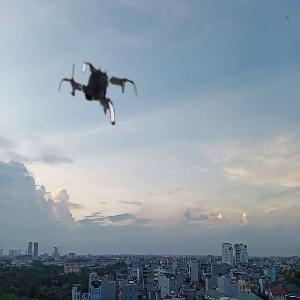drone: (56, 55, 141, 140)
